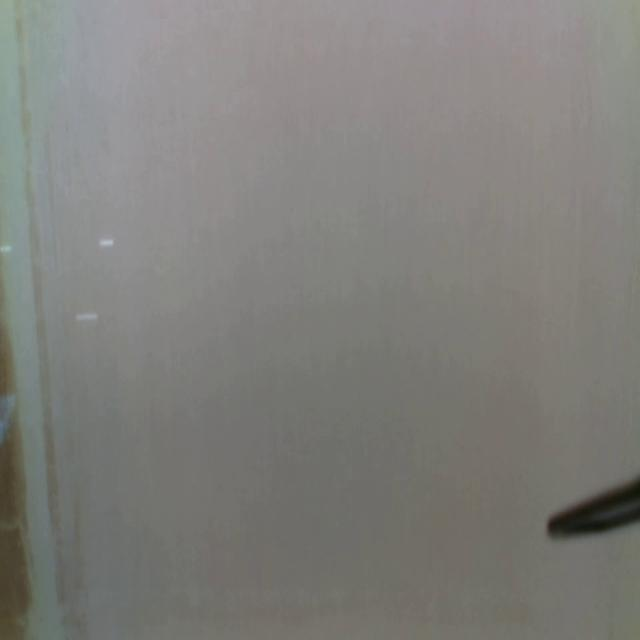color bleeding: (0, 1, 74, 640)
